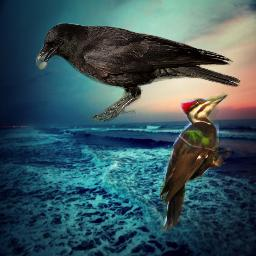Crow: (33, 22, 241, 122)
Woodpecker: (158, 92, 232, 232)
